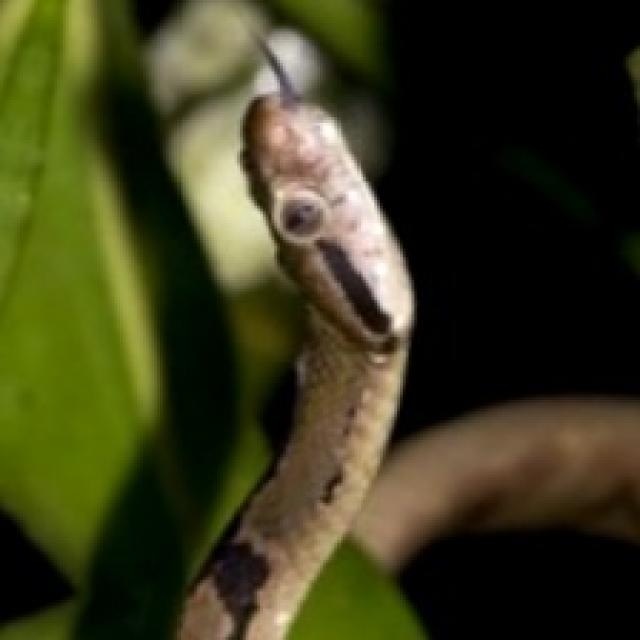dog-toothed cat snake: (177, 43, 411, 637)
